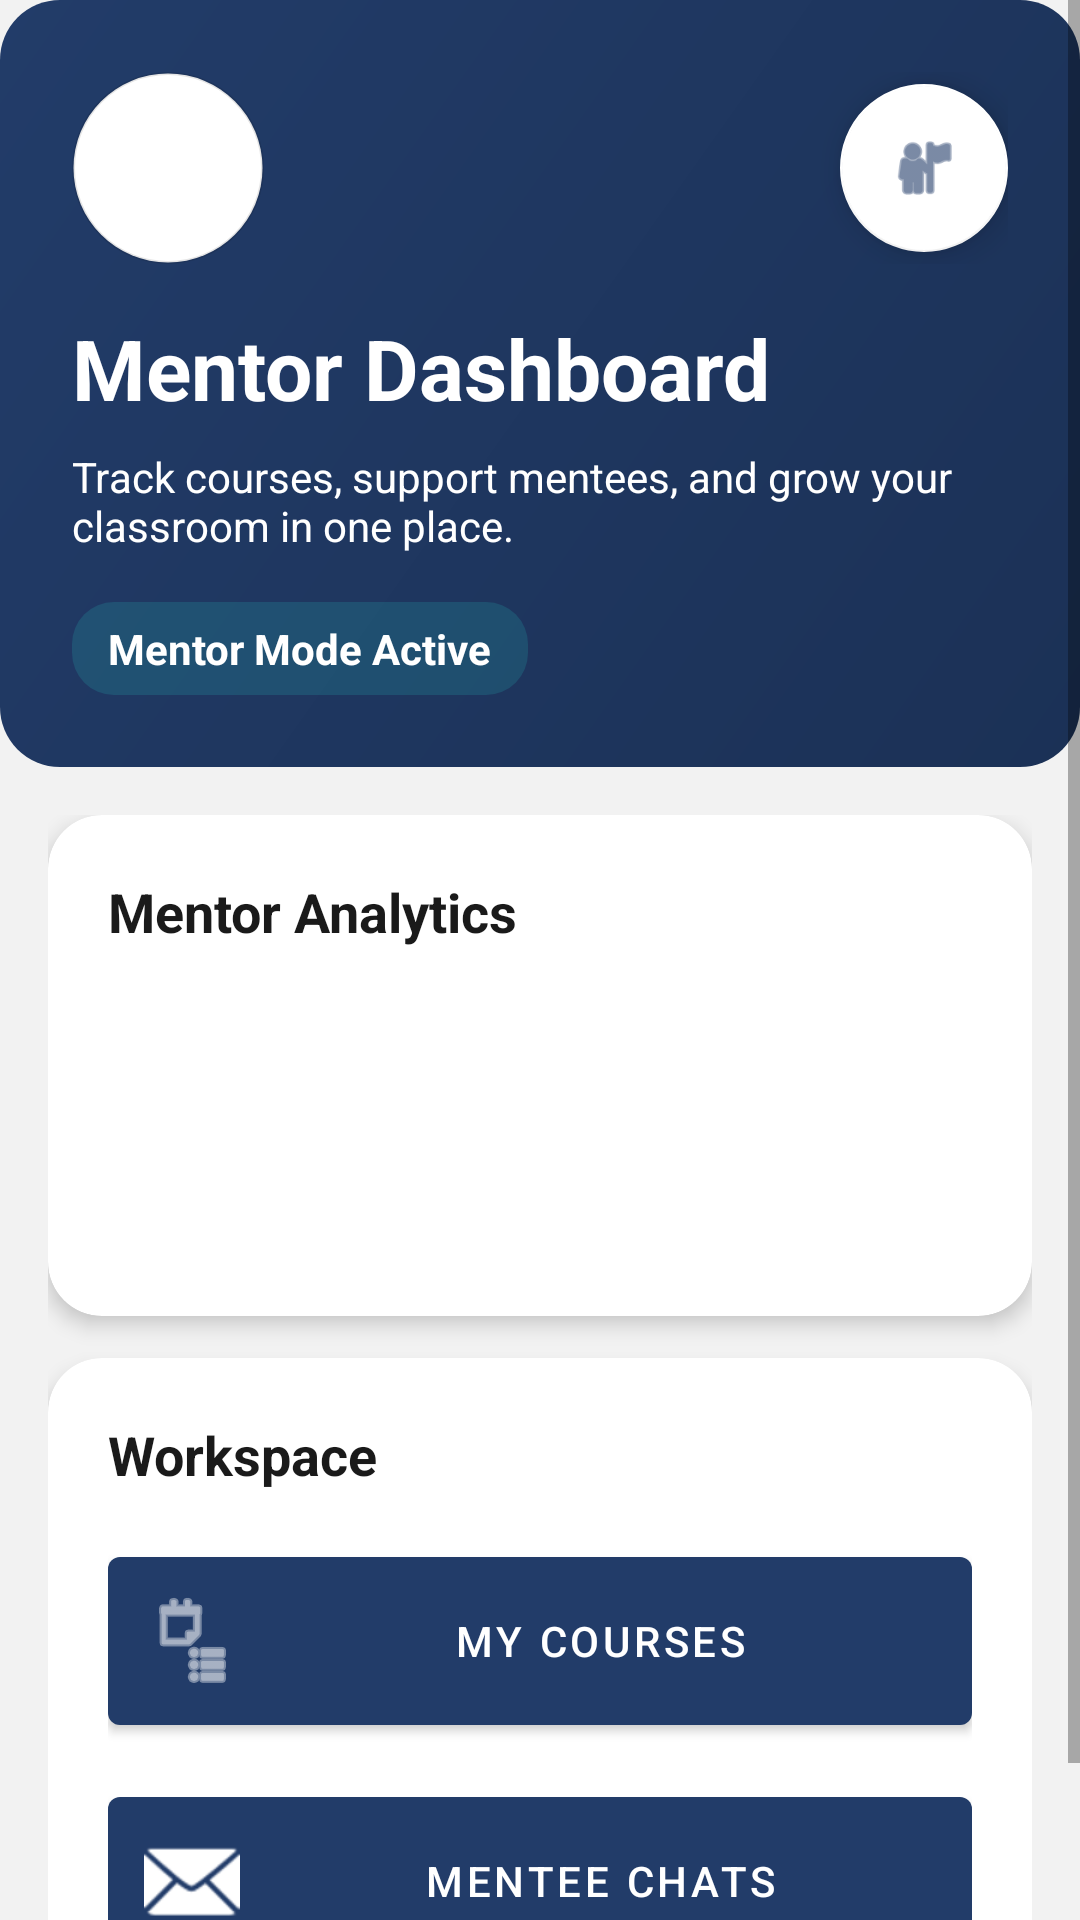

Icon click points for this 1080 × 1920 phone screenshot, format [x,y]:
Profile: [924,168]
